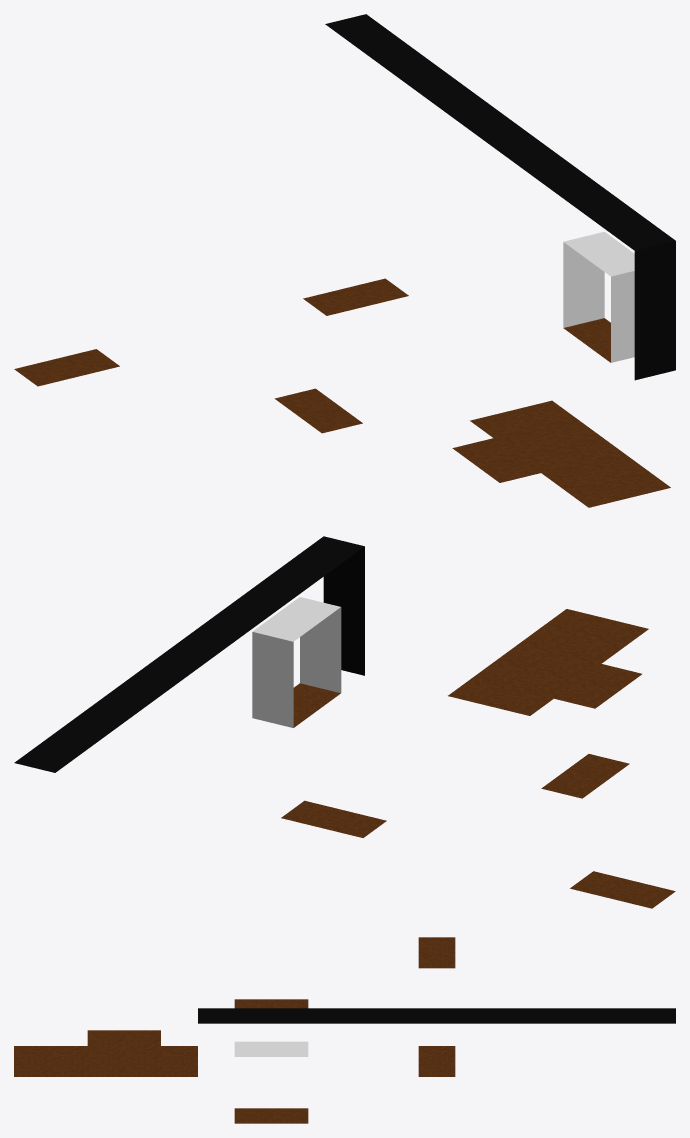
The model's file is house_floor_base_int.fbx.
3 views of the same model, one above another, from view 1: azimuth 30°, elevation 25°; view 2: azimuth 150°, elevation 25°; view 3: azimuth 270°, elevation 25° (orthographic). The views are drawn at different scales.
Visible parts, largest first — view 1: interior-col; view 2: interior-col; view 3: interior-col.
Part boxes in pixels (x1,y1,x2,y2): interior-col: (14, 14, 675, 507); interior-col: (14, 536, 675, 908); interior-col: (14, 937, 675, 1123).
Size of the model in its own units: 384 by 96 by 576.
